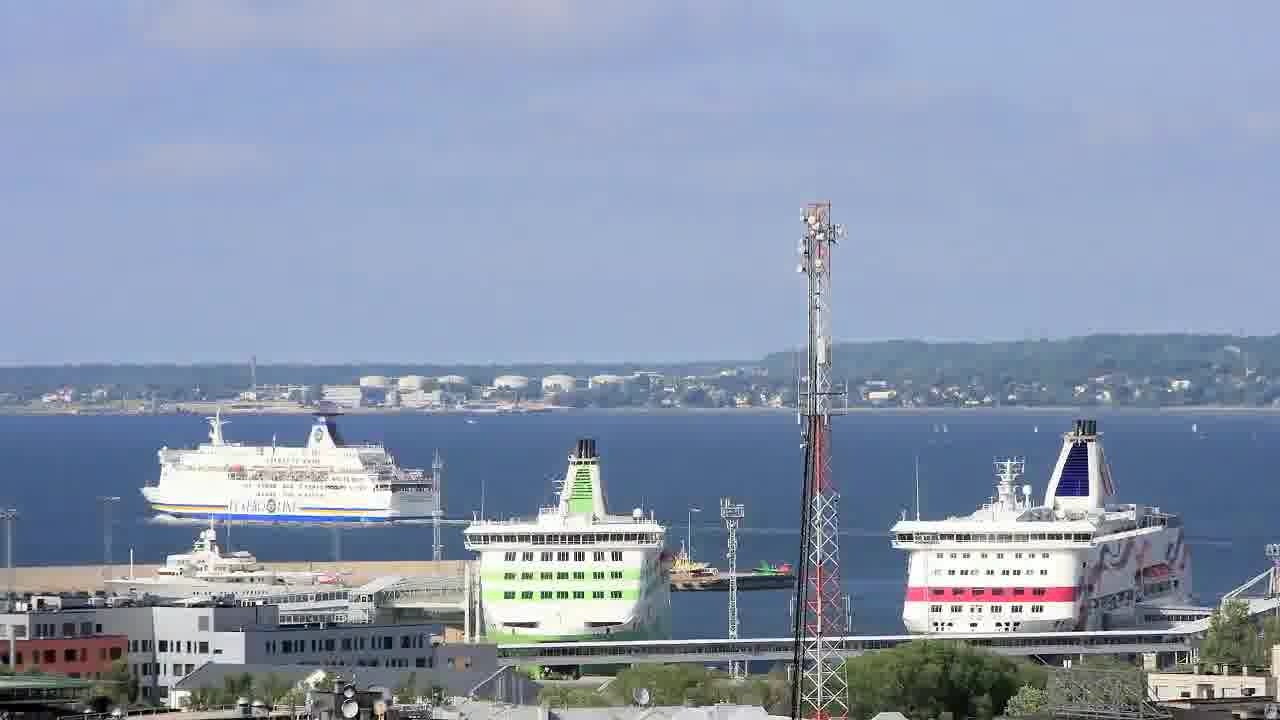type-3: (868, 415, 1225, 638), (436, 434, 694, 670), (136, 385, 453, 543), (70, 520, 369, 612)
